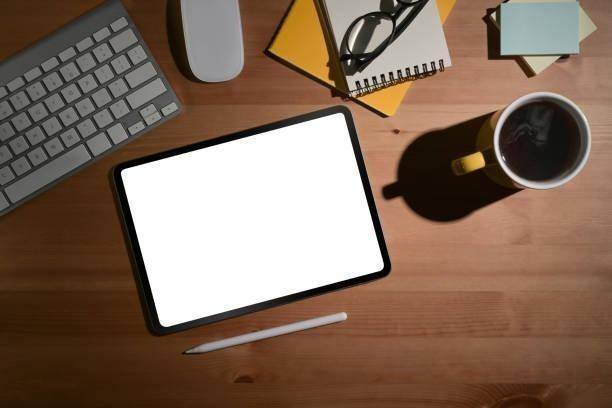cup-handle: (451, 90, 592, 192)
